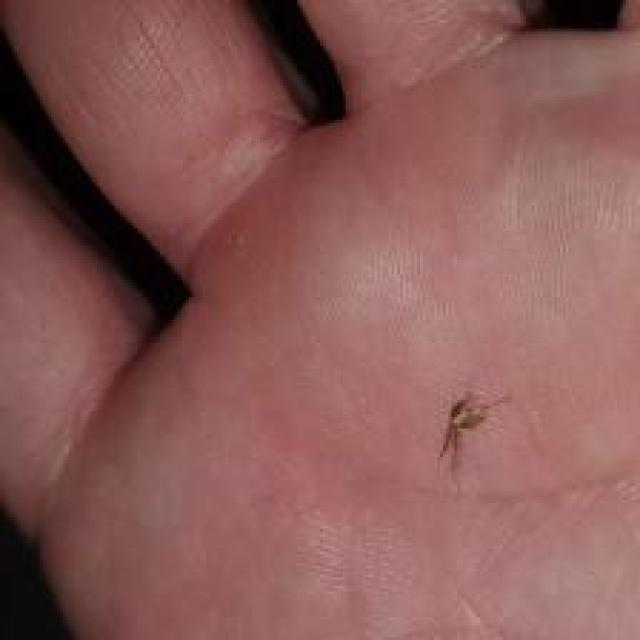Culex: (436, 388, 507, 463)
